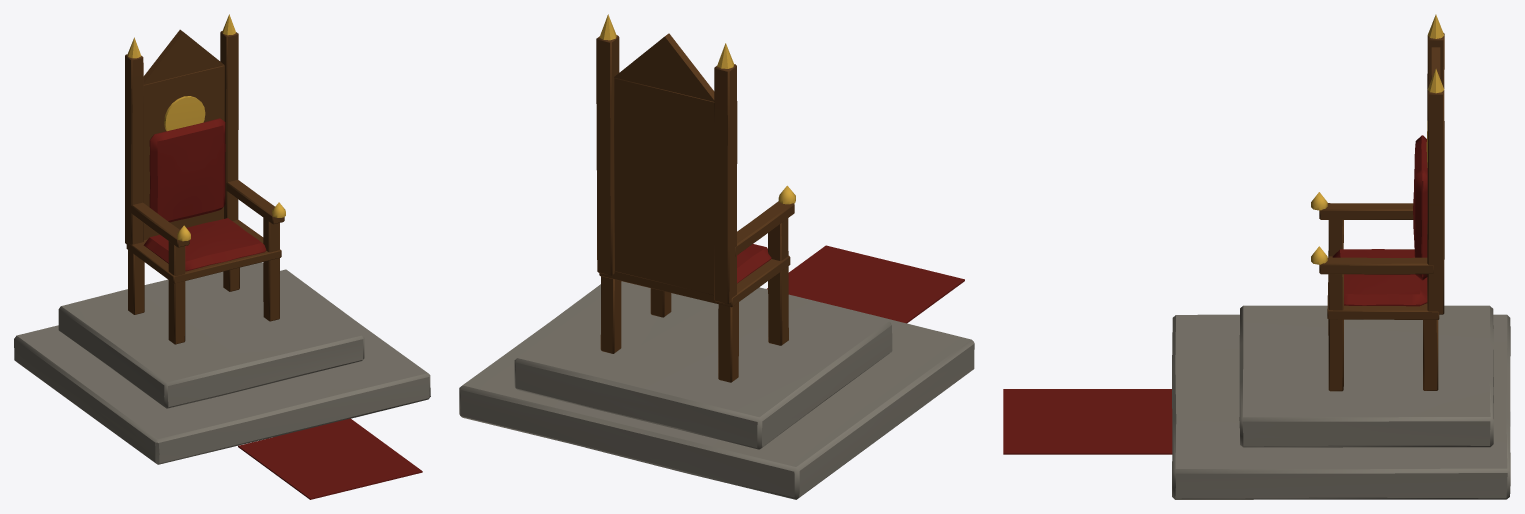
The model's file is thron.glb.
The picture shows the model from 3 angles, left to right: view 1: azimuth 30°, elevation 25°; view 2: azimuth 150°, elevation 25°; view 3: azimuth 270°, elevation 25°; orthographic projection. The views are drawn at different scales.
Visible parts, largest first — view 1: thron; view 2: thron; view 3: thron.
Boxes of the visible parts, left/top/right/bottom form: thron: left=14, top=14, right=430, bottom=499; thron: left=459, top=14, right=974, bottom=499; thron: left=1003, top=14, right=1510, bottom=499.
Size of the model in its own units: 2.21 by 2.49 by 3.
